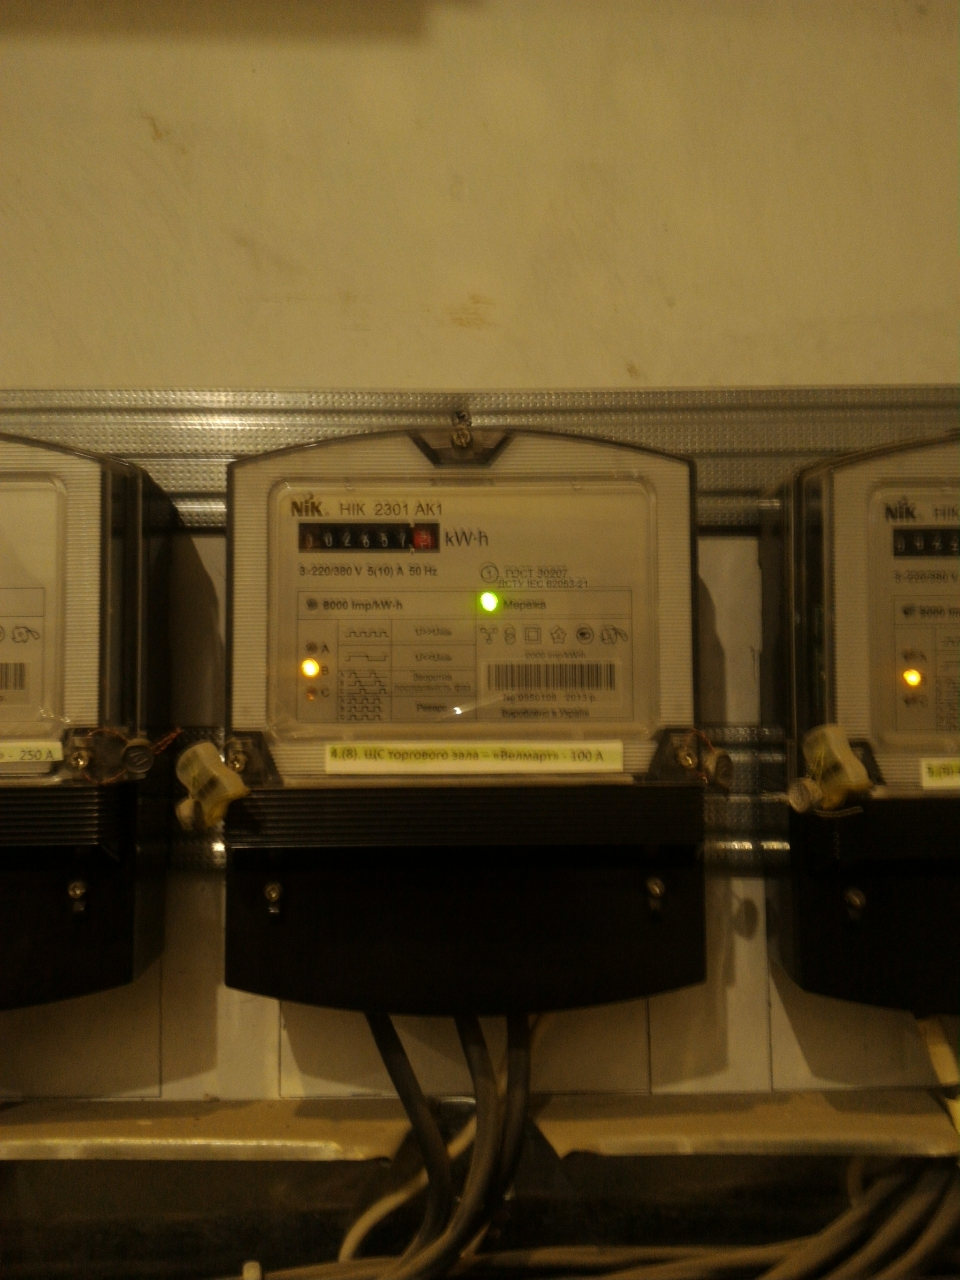0: (896, 534, 906, 553), (304, 532, 314, 549), (915, 534, 925, 551), (323, 531, 333, 547)
2: (341, 531, 352, 547)
4: (419, 527, 428, 539)
5: (380, 531, 389, 549)
6: (361, 533, 371, 548)
7: (398, 531, 407, 549)
screen: (290, 515, 451, 561), (883, 515, 960, 571)
x: (950, 532, 960, 552), (932, 532, 942, 551), (419, 542, 428, 550)
